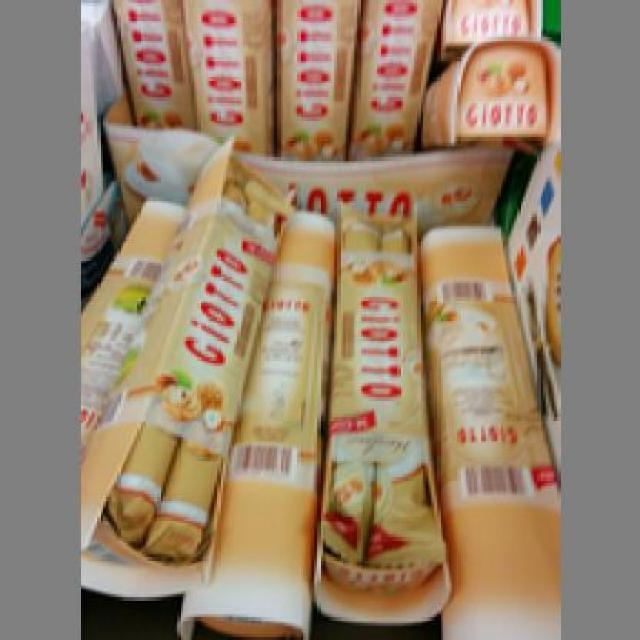Chocolate: (108, 168, 272, 578), (417, 222, 554, 638), (328, 208, 432, 588), (176, 0, 270, 149), (350, 0, 438, 155), (270, 0, 346, 160), (106, 0, 192, 126)
